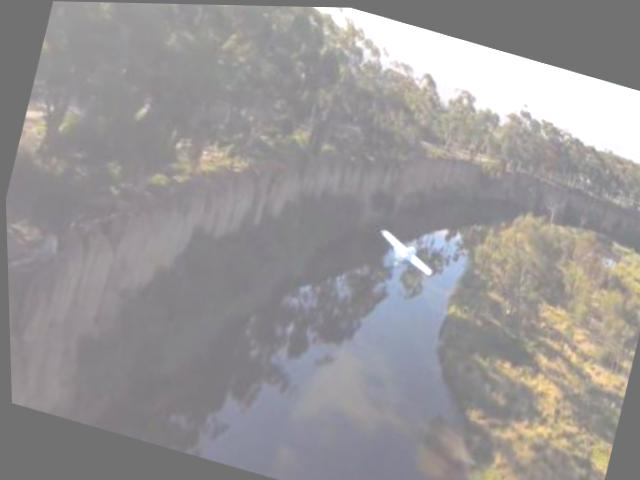uav: (371, 226, 440, 278)
